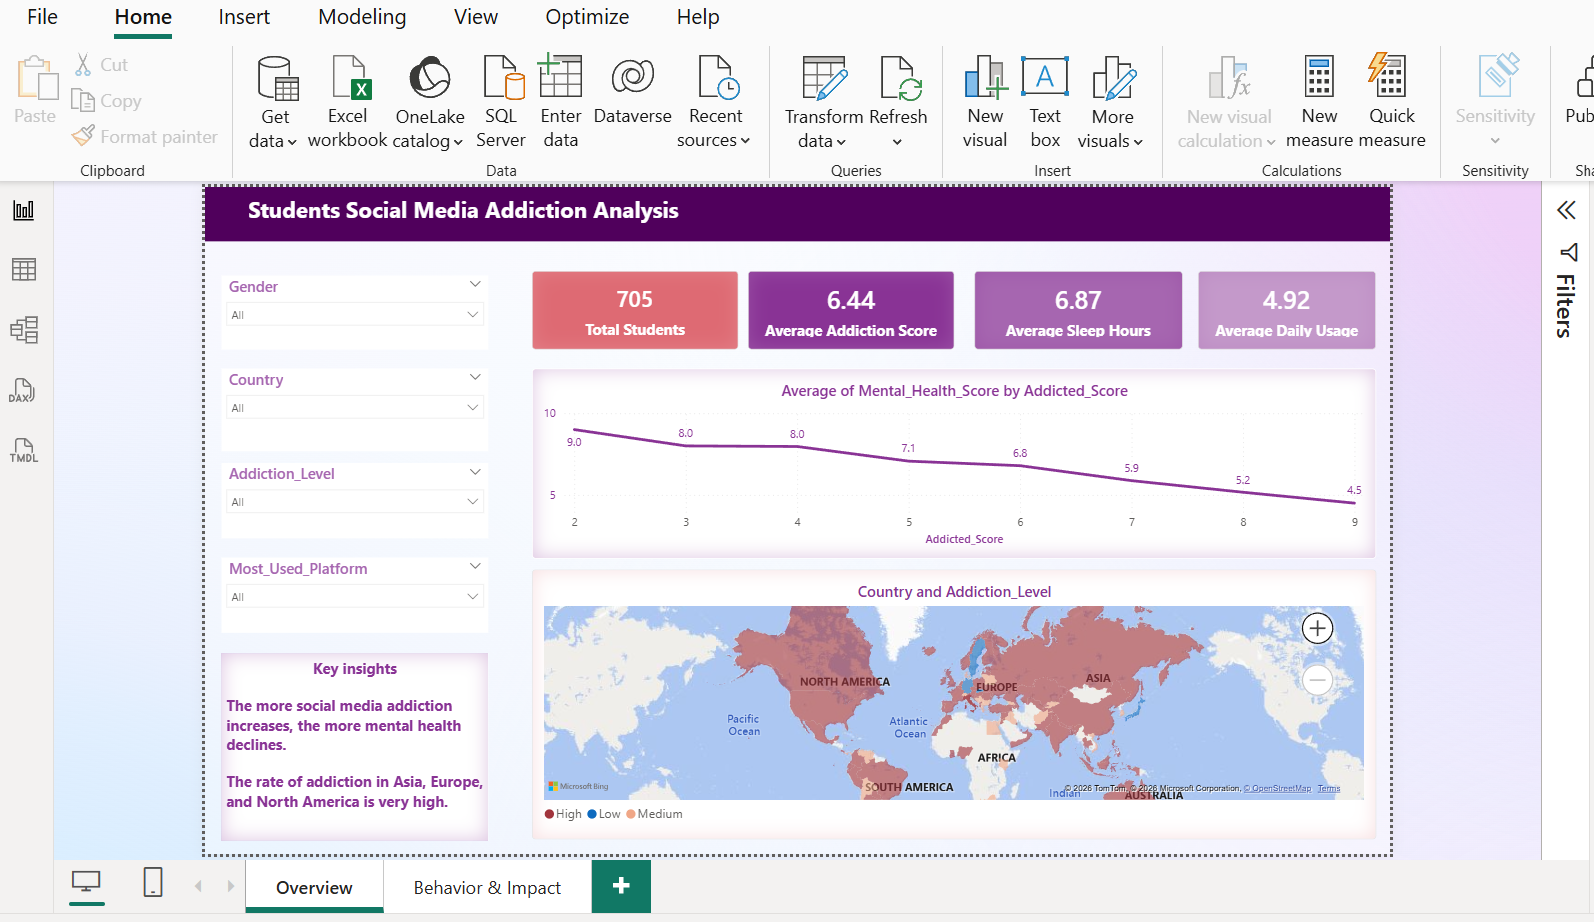

The dashboard page shown, as its layout file describes it:
{"tool":"powerbi","page":{"name":"Overview","canvas":[1280,720],"ordinal":0},"visuals":[{"type":"card","fields":{"Values":["Students Social Media Addiction.Total Students"]},"box":[353.1,91.1,222.9,84.6],"z":0},{"type":"card","fields":{"Values":["Students Social Media Addiction.Average Addiction Score"]},"box":[585.8,91.1,222.9,84.6],"z":1000},{"type":"card","fields":{"Values":["Students Social Media Addiction.Average Sleep Hours"]},"box":[831.5,91.1,224.5,84.6],"z":2000},{"type":"card","fields":{"Values":["Students Social Media Addiction.Average Daily Usage"]},"box":[1072.3,91.1,192,84.6],"z":3000},{"type":"filledMap","fields":{"Category":["Students Social Media Addiction.Country"],"Series":["Students Social Media Addiction.Addiction_Level"]},"box":[353.1,413.3,911.2,291.3],"z":4000},{"type":"slicer","fields":{"Values":["Students Social Media Addiction.Gender"]},"box":[17.9,96,288,79.7],"z":5000},{"type":"slicer","fields":{"Values":["Students Social Media Addiction.Country"]},"box":[17.9,195.3,288,89.5],"z":6000},{"type":"slicer","fields":{"Values":["Students Social Media Addiction.Most_Used_Platform"]},"box":[17.9,400.3,288,81.4],"z":7000},{"type":"slicer","fields":{"Values":["Students Social Media Addiction.Addiction_Level"]},"box":[17.9,297.8,288,81.4],"z":8000},{"type":"lineChart","fields":{"Y":["Avg(Students Social Media Addiction.Mental_Health_Score)"],"Category":["Students Social Media Addiction.Addicted_Score"]},"box":[353.1,195.3,911.2,205],"z":9000},{"type":"textbox","box":[0,0,1280.5,58.6],"z":10000},{"type":"textbox","box":[17.9,502.8,288,201.8],"z":11000}]}

Visuals, with their boxes on the page's 1280x720 design canvas (x1, y1, x2, y2). These are canvas units, not pixel positions in the 1594x922 screenshot, which may show the page scaled, cropped or inside an application window:
card - Students Social Media Addiction.Total Students: (353, 91, 576, 176)
card - Students Social Media Addiction.Average Addiction Score: (586, 91, 809, 176)
card - Students Social Media Addiction.Average Sleep Hours: (832, 91, 1056, 176)
card - Students Social Media Addiction.Average Daily Usage: (1072, 91, 1264, 176)
filledMap - Students Social Media Addiction.Country x Students Social Media Addiction.Addiction_Level: (353, 413, 1264, 705)
slicer - Students Social Media Addiction.Gender: (18, 96, 306, 176)
slicer - Students Social Media Addiction.Country: (18, 195, 306, 285)
slicer - Students Social Media Addiction.Most_Used_Platform: (18, 400, 306, 482)
slicer - Students Social Media Addiction.Addiction_Level: (18, 298, 306, 379)
lineChart - Avg(Students Social Media Addiction.Mental_Health_Score) x Students Social Media Addiction.Addicted_Score: (353, 195, 1264, 400)
textbox: (0, 0, 1280, 59)
textbox: (18, 503, 306, 705)
